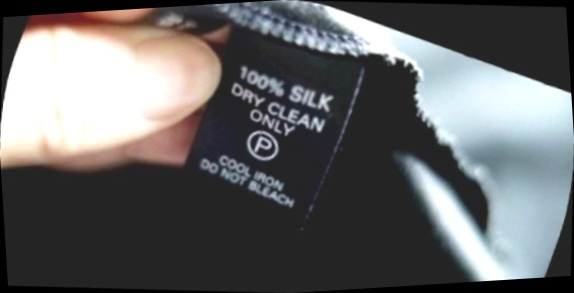dry_clean_any_solvent_except_trichloroethylene: (235, 117, 293, 173)
